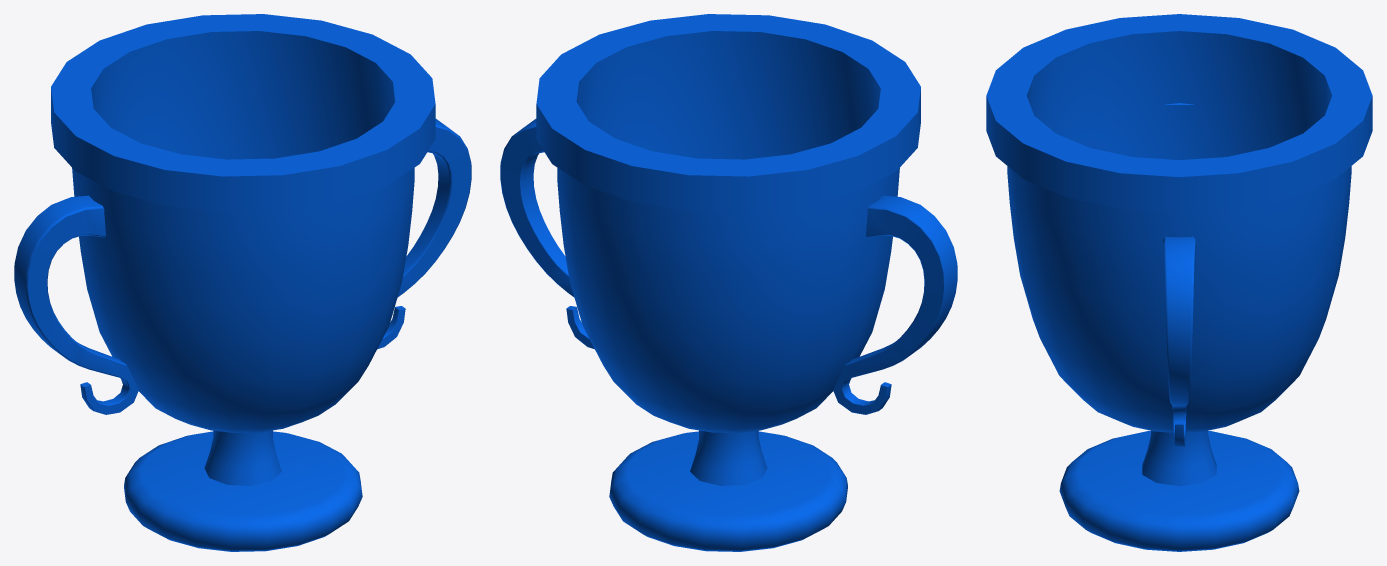
Rendered from Trophy_01.fbx.
3 renders of one model, left to right at view 1: azimuth 30°, elevation 25°; view 2: azimuth 150°, elevation 25°; view 3: azimuth 270°, elevation 25°, orthographic.
Parts seen in each view (by area): view 1: Trophy_01; view 2: Trophy_01; view 3: Trophy_01.
Part boxes in pixels (x1,y1,x2,y2): Trophy_01: (14, 14, 471, 551); Trophy_01: (500, 14, 957, 551); Trophy_01: (986, 14, 1372, 551).
Size of the model in its own units: 63.34 by 55.67 by 47.5.
